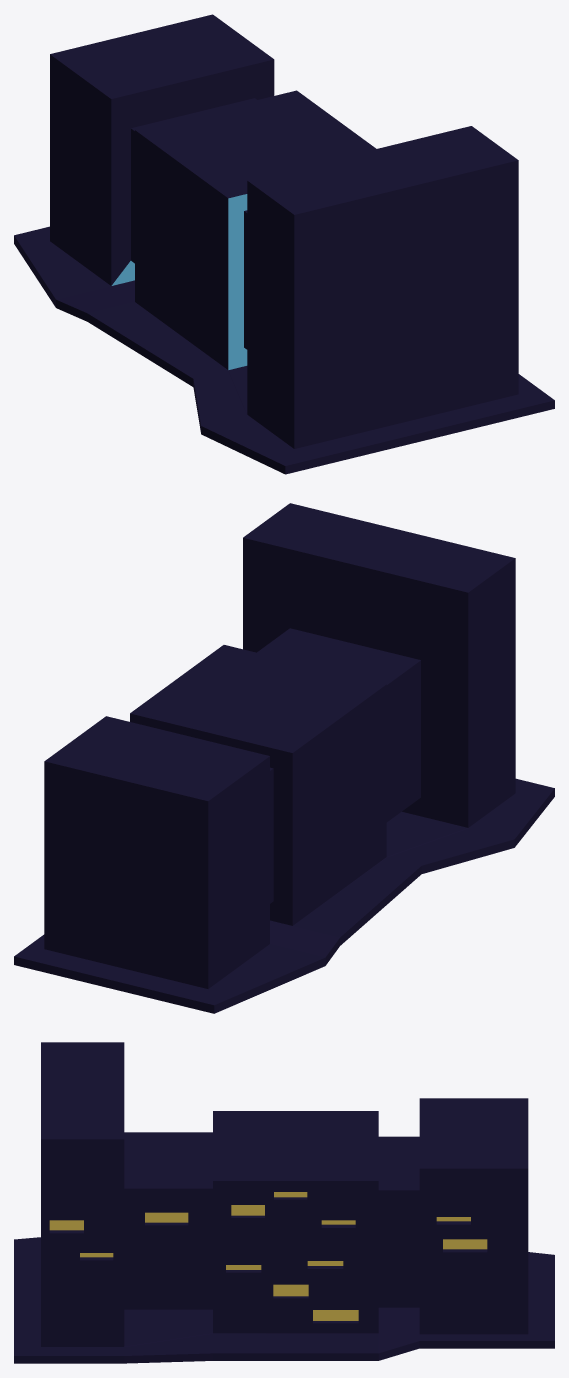
The model's file is House7.fbx.
The picture shows the model from 3 angles, top to bottom: view 1: azimuth 30°, elevation 25°; view 2: azimuth 150°, elevation 25°; view 3: azimuth 270°, elevation 25°; orthographic projection. The views are drawn at different scales.
Visible parts, largest first — view 1: House7; view 2: House7; view 3: House7.
Boxes of the visible parts, x1,y1,x2,y2 form: House7: [14, 14, 554, 474]; House7: [14, 503, 554, 1013]; House7: [14, 1042, 554, 1363].
Bounding box in the file's own units: 524 × 418 × 950.
